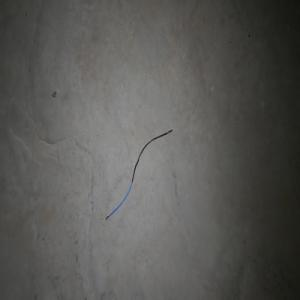Wire: (105, 129, 172, 220)
